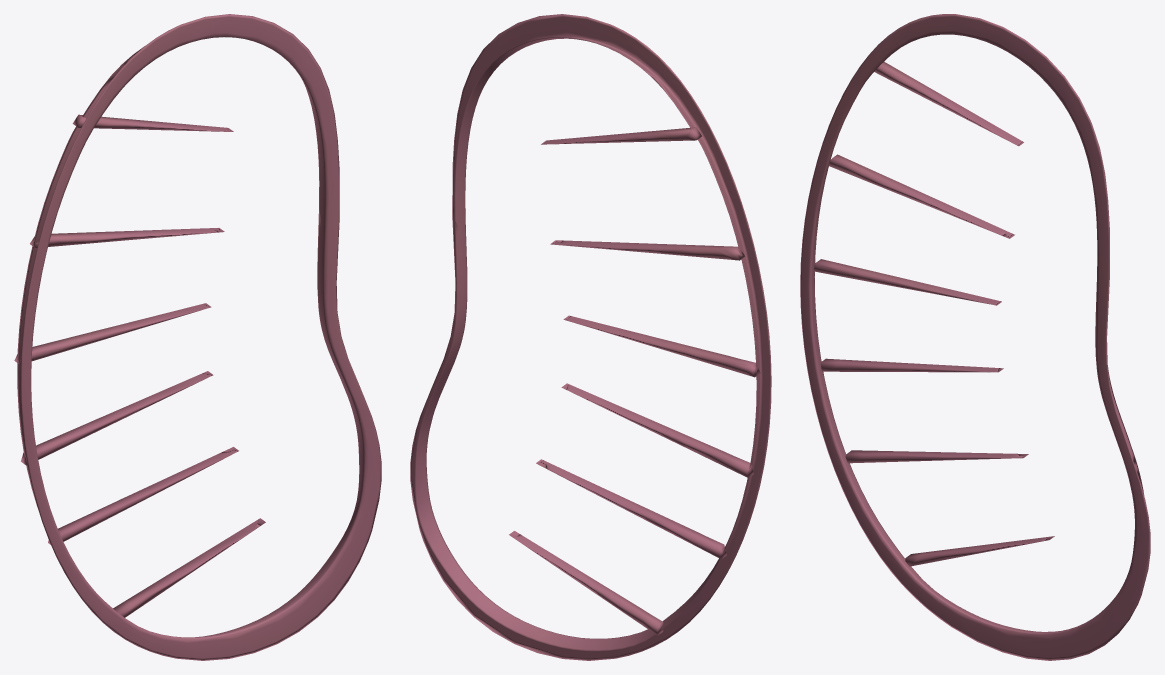
3 renders of one model, left to right at view 1: azimuth 30°, elevation 25°; view 2: azimuth 150°, elevation 25°; view 3: azimuth 330°, elevation 25°, orthographic. The views are drawn at different scales.
Visible parts, largest first — view 1: LOD 1_16192670299155889494_a1e5460f9667e624384844bb77a670e0; view 2: LOD 1_16192670299155889494_a1e5460f9667e624384844bb77a670e0; view 3: LOD 1_16192670299155889494_a1e5460f9667e624384844bb77a670e0.
Boxes of the visible parts, <box> form: LOD 1_16192670299155889494_a1e5460f9667e624384844bb77a670e0: <box>14,14,381,660</box>; LOD 1_16192670299155889494_a1e5460f9667e624384844bb77a670e0: <box>410,14,771,660</box>; LOD 1_16192670299155889494_a1e5460f9667e624384844bb77a670e0: <box>800,14,1150,660</box>.
Size of the model in its own units: 4.09 by 7.02 by 0.2339.
